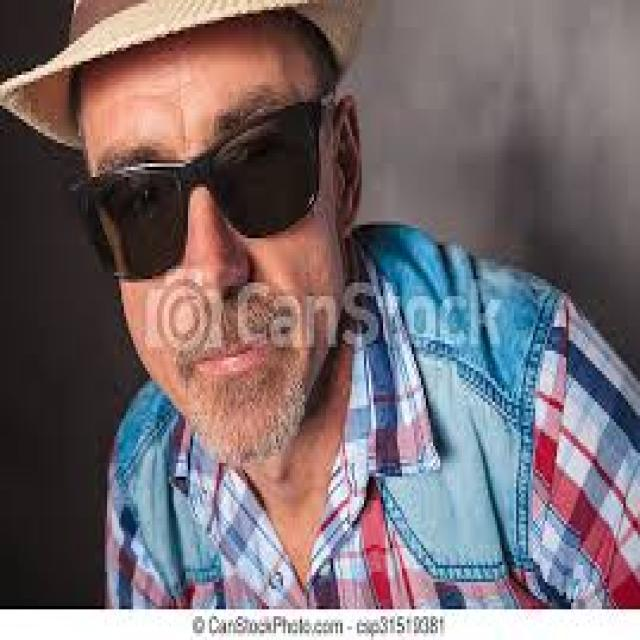hat: (0, 0, 376, 449)
